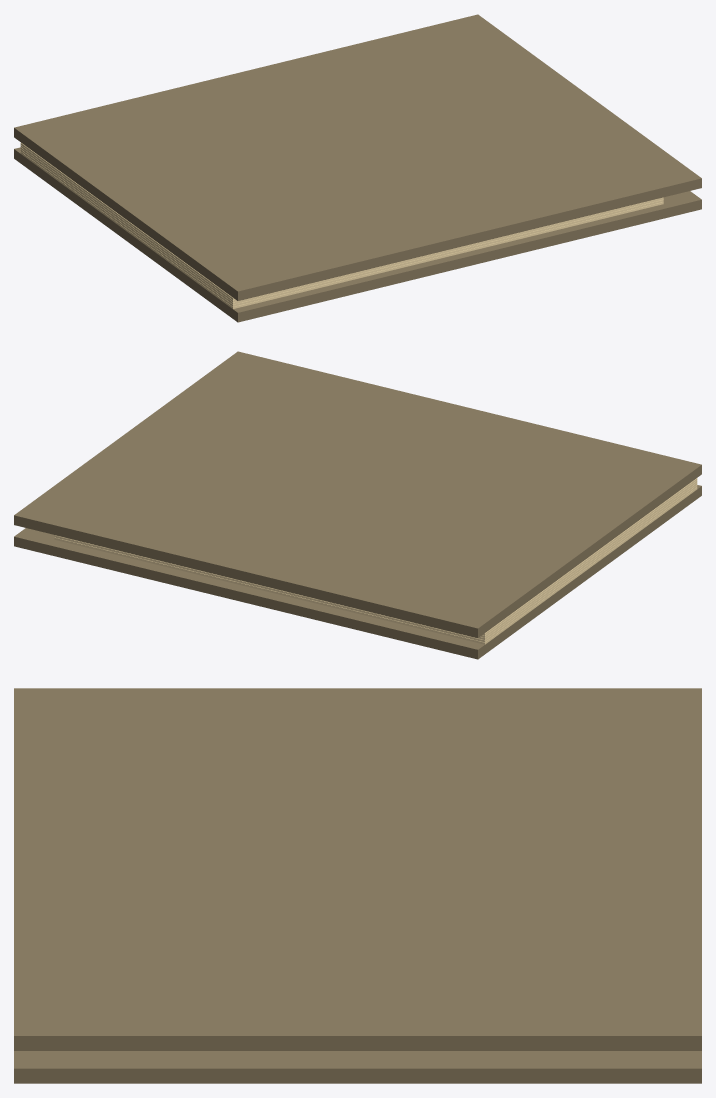
Rendered from scrap-book.glb.
3 renders of one model, top to bottom at view 1: azimuth 30°, elevation 25°; view 2: azimuth 150°, elevation 25°; view 3: azimuth 270°, elevation 25°, orthographic. The views are drawn at different scales.
Visible parts, largest first — view 1: BookCover_Top, BookCover_Bottom, Page_4, Page_5, Page_3, Page_1, Page_2; view 2: BookCover_Top, BookCover_Bottom, Page_5, Page_4, Page_3, Page_1, Page_2; view 3: BookCover_Top, BookCover_Bottom.
Part boxes in pixels (x1=…): BookCover_Top: x1=14, y1=14, x2=701, y2=300; BookCover_Bottom: x1=14, y1=147, x2=701, y2=322; Page_4: x1=20, y1=149, x2=663, y2=306; Page_5: x1=20, y1=152, x2=663, y2=308; Page_3: x1=20, y1=147, x2=663, y2=304; Page_1: x1=20, y1=143, x2=235, y2=299; Page_2: x1=20, y1=145, x2=237, y2=302; BookCover_Top: x1=14, y1=351, x2=701, y2=637; BookCover_Bottom: x1=14, y1=485, x2=701, y2=659; Page_5: x1=54, y1=487, x2=697, y2=644; Page_4: x1=54, y1=485, x2=697, y2=642; Page_3: x1=54, y1=483, x2=697, y2=639; Page_1: x1=483, y1=478, x2=697, y2=635; Page_2: x1=480, y1=480, x2=697, y2=637; BookCover_Top: x1=14, y1=688, x2=701, y2=1050; BookCover_Bottom: x1=14, y1=1051, x2=701, y2=1083.
Bounding box in the file's own units: 2 × 0.1277 × 1.67.
